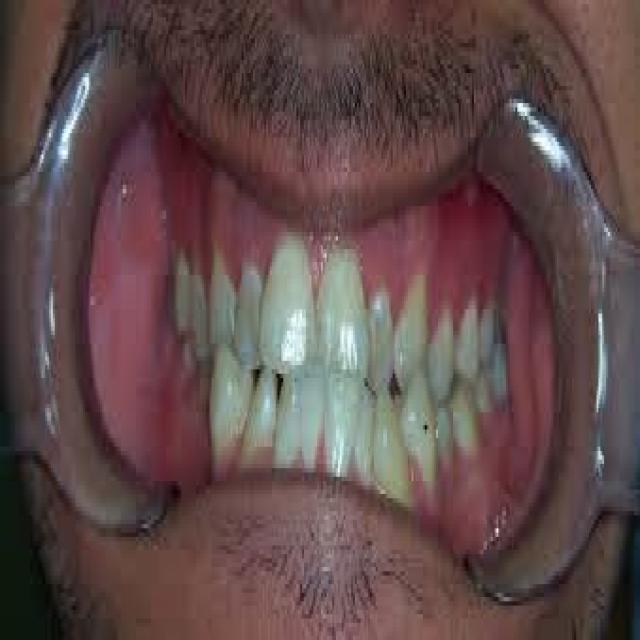tooth: (314, 249, 368, 374), (274, 240, 313, 361), (329, 374, 368, 485), (396, 391, 434, 498), (208, 369, 244, 481), (376, 391, 406, 515), (396, 284, 428, 382), (246, 386, 280, 476), (236, 266, 261, 374), (206, 258, 234, 352), (453, 301, 482, 391), (427, 314, 455, 399), (452, 395, 482, 464), (278, 382, 298, 477), (372, 305, 394, 391), (362, 391, 378, 507), (304, 374, 321, 468), (173, 262, 190, 348), (195, 270, 208, 370), (434, 408, 455, 468), (491, 348, 508, 404), (480, 305, 494, 361), (481, 369, 493, 416)
